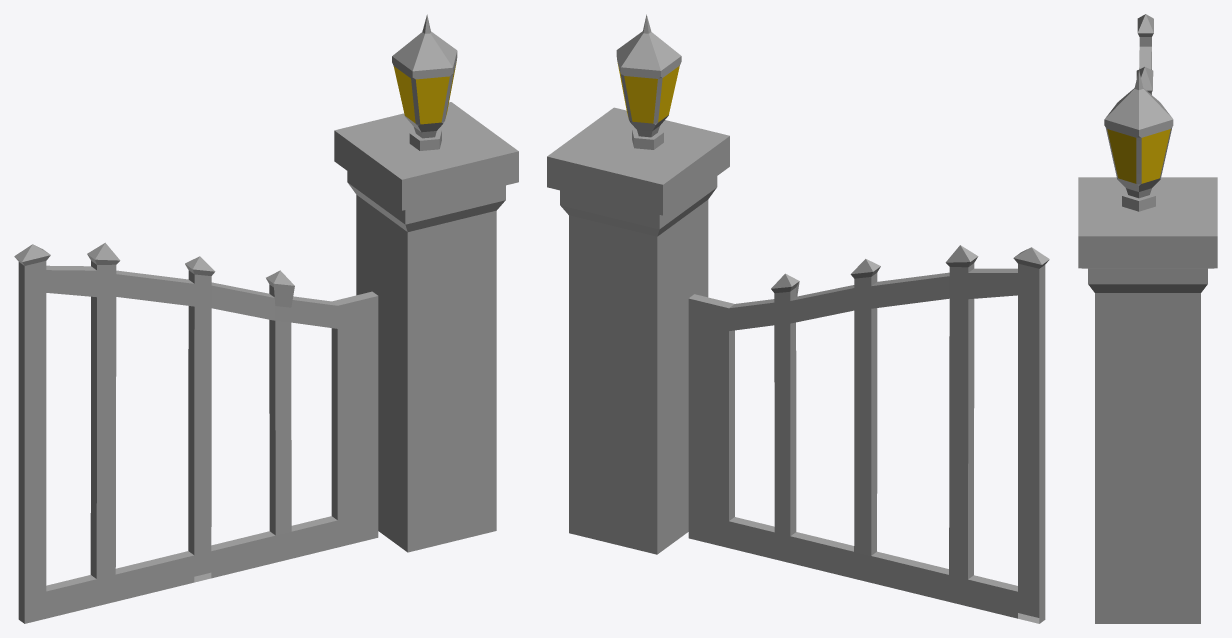
The model's file is GateFence1.fbx.
3 renders of one model, left to right at view 1: azimuth 30°, elevation 25°; view 2: azimuth 150°, elevation 25°; view 3: azimuth 270°, elevation 25°, orthographic. The views are drawn at different scales.
Visible parts, largest first — view 1: pCube123, pCube120, pCylinder47; view 2: pCube123, pCube120, pCylinder47; view 3: pCube120, pCylinder47, pCube123.
Boxes of the visible parts, <box> form: pCube123: <box>14,242,378,623</box>; pCube120: <box>334,102,518,552</box>; pCylinder47: <box>392,14,457,150</box>; pCube123: <box>688,245,1049,623</box>; pCube120: <box>547,107,729,554</box>; pCylinder47: <box>616,14,681,149</box>; pCube120: <box>1078,177,1217,623</box>; pCylinder47: <box>1104,70,1173,211</box>; pCube123: <box>1136,14,1153,94</box>.
Bounding box in the file's own units: 69.26 × 72.53 × 17.31.
